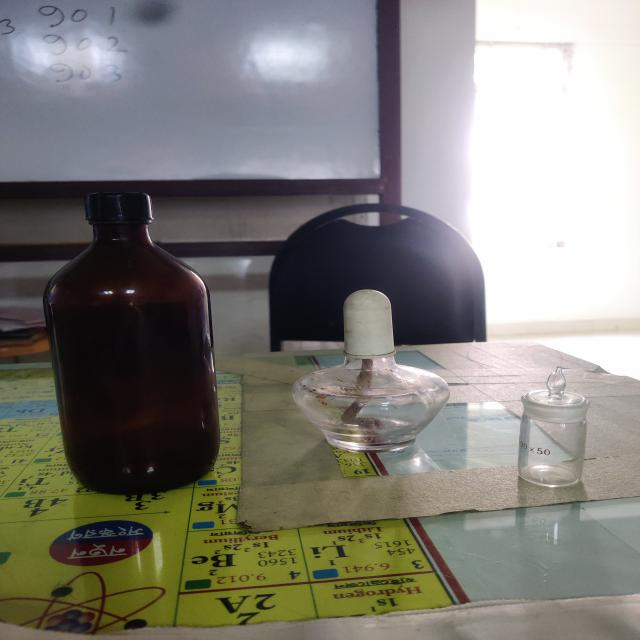Nessler_Reagent_Bottle: (21, 175, 250, 512)
Spirit_Lamp: (278, 280, 464, 477)
Weighing_Bottle: (501, 358, 622, 520)
